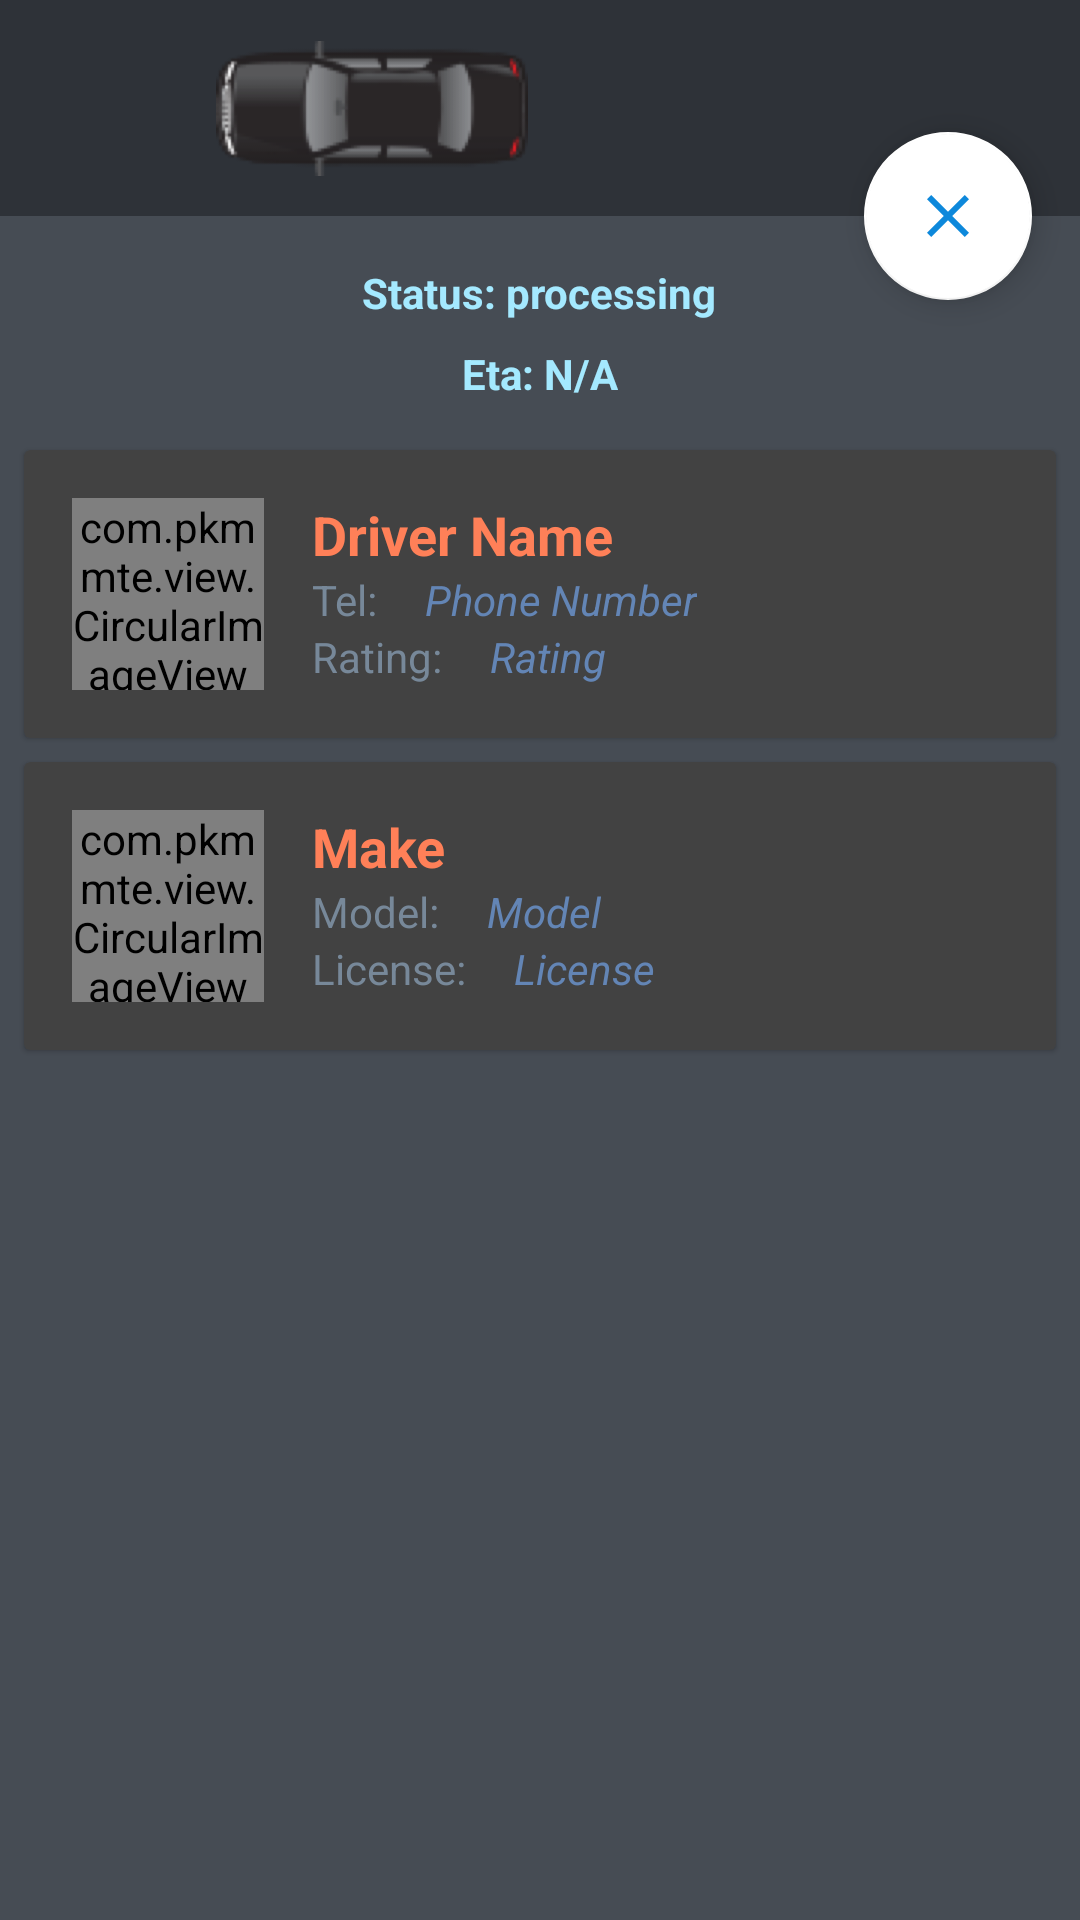

Icon click points for this 1080×1920 phone screenshot, format (x,y):
cancel: (948,216)
Uber product image: (372,108)
